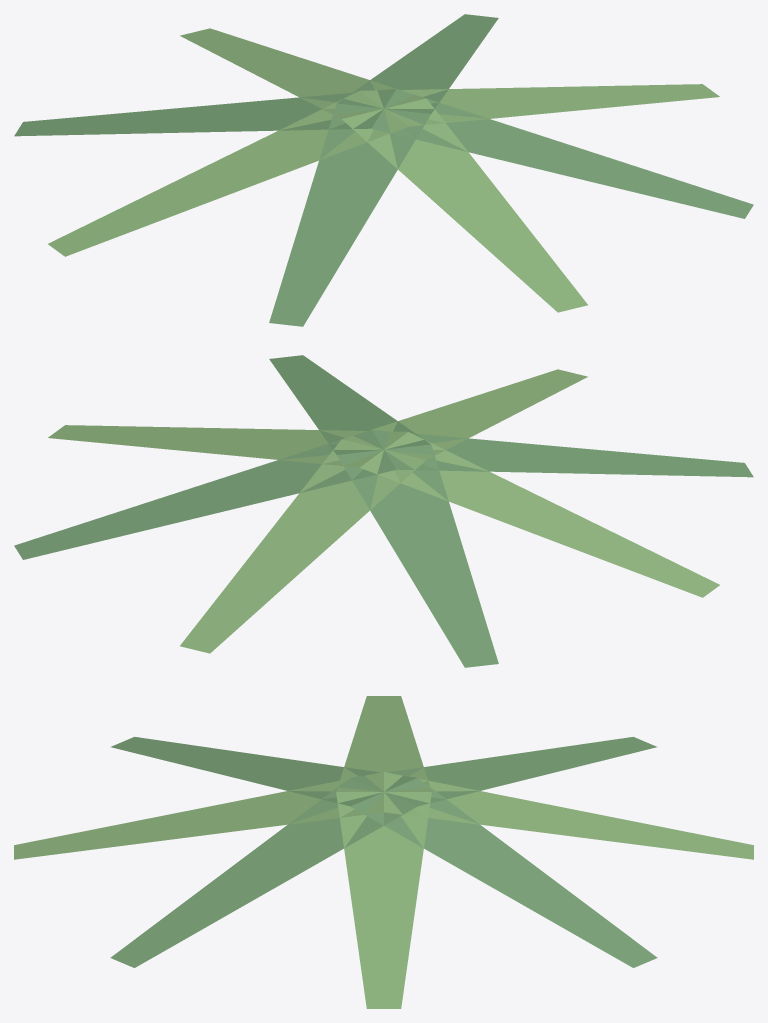
The model's file is veg_fern_01.glb.
3 renders of one model, top to bottom at view 1: azimuth 30°, elevation 25°; view 2: azimuth 150°, elevation 25°; view 3: azimuth 270°, elevation 25°, orthographic. The views are drawn at different scales.
Visible parts, largest first — view 1: frond_3, frond_2, frond_4, frond_1, frond_5, frond_0, frond_6, frond_7; view 2: frond_5, frond_6, frond_4, frond_7, frond_3, frond_0, frond_2, frond_1; view 3: frond_0, frond_1, frond_7, frond_2, frond_6, frond_3, frond_5, frond_4.
Part boxes in pixels (x1,y1,x2,y2): frond_3: [269, 103, 430, 326]; frond_2: [342, 98, 587, 312]; frond_4: [48, 91, 407, 256]; frond_1: [371, 89, 753, 218]; frond_5: [14, 89, 396, 136]; frond_0: [360, 84, 719, 126]; frond_6: [180, 28, 425, 118]; frond_7: [337, 14, 498, 113]; frond_5: [337, 444, 498, 667]; frond_6: [180, 439, 425, 653]; frond_4: [360, 432, 719, 597]; frond_7: [14, 430, 396, 559]; frond_3: [371, 430, 753, 477]; frond_0: [48, 425, 407, 467]; frond_2: [342, 369, 587, 459]; frond_1: [269, 355, 430, 454]; frond_0: [336, 792, 431, 1008]; frond_1: [110, 778, 417, 967]; frond_7: [350, 778, 657, 967]; frond_2: [14, 772, 383, 859]; frond_6: [384, 772, 753, 859]; frond_3: [111, 736, 417, 806]; frond_5: [350, 736, 656, 806]; frond_4: [336, 696, 431, 791].
Size of the model in its own units: 1.36 by 0.1224 by 1.36.
